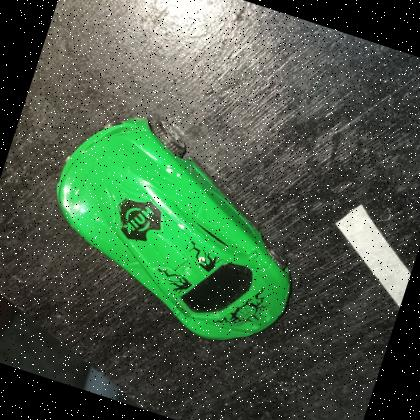Car: (55, 115, 291, 340)
